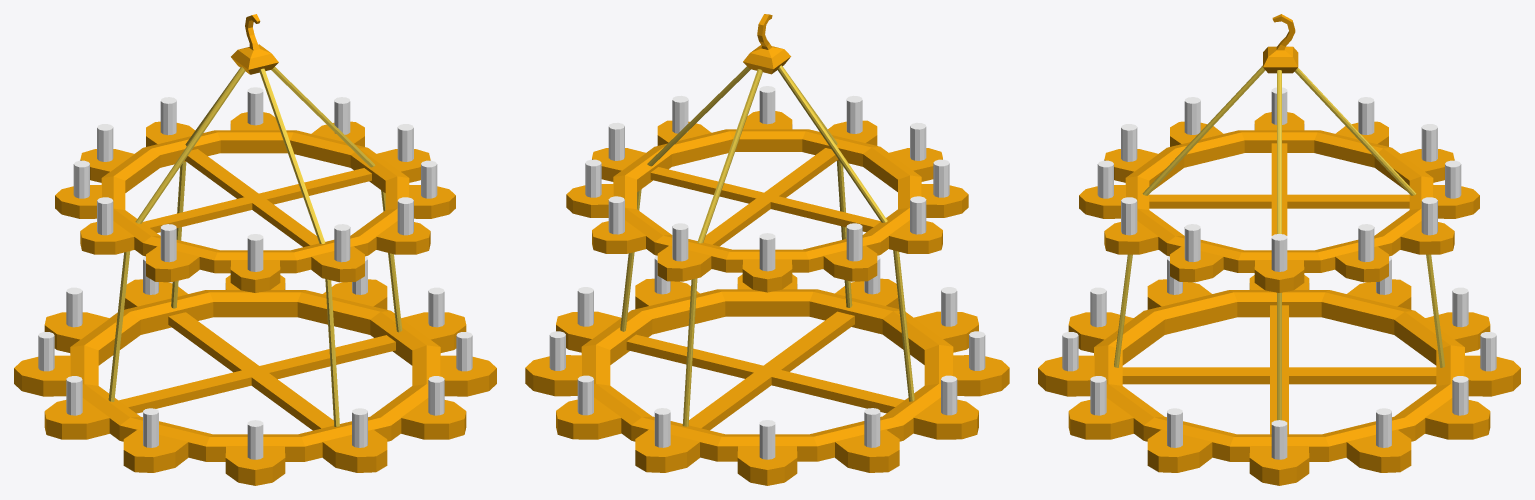
File: Lustre.fbx
3 views of the same model, side by side, from view 1: azimuth 30°, elevation 25°; view 2: azimuth 150°, elevation 25°; view 3: azimuth 270°, elevation 25° (orthographic).
Visible parts, largest first — view 1: Lustre; view 2: Lustre; view 3: Lustre.
Part boxes in pixels (box(x1,y1,x2,y2)): Lustre: box(14, 14, 496, 485); Lustre: box(525, 14, 1009, 485); Lustre: box(1038, 14, 1520, 485).
Size of the model in its own units: 252 by 214 by 252.
Materials: 1 (1 with a texture image).
